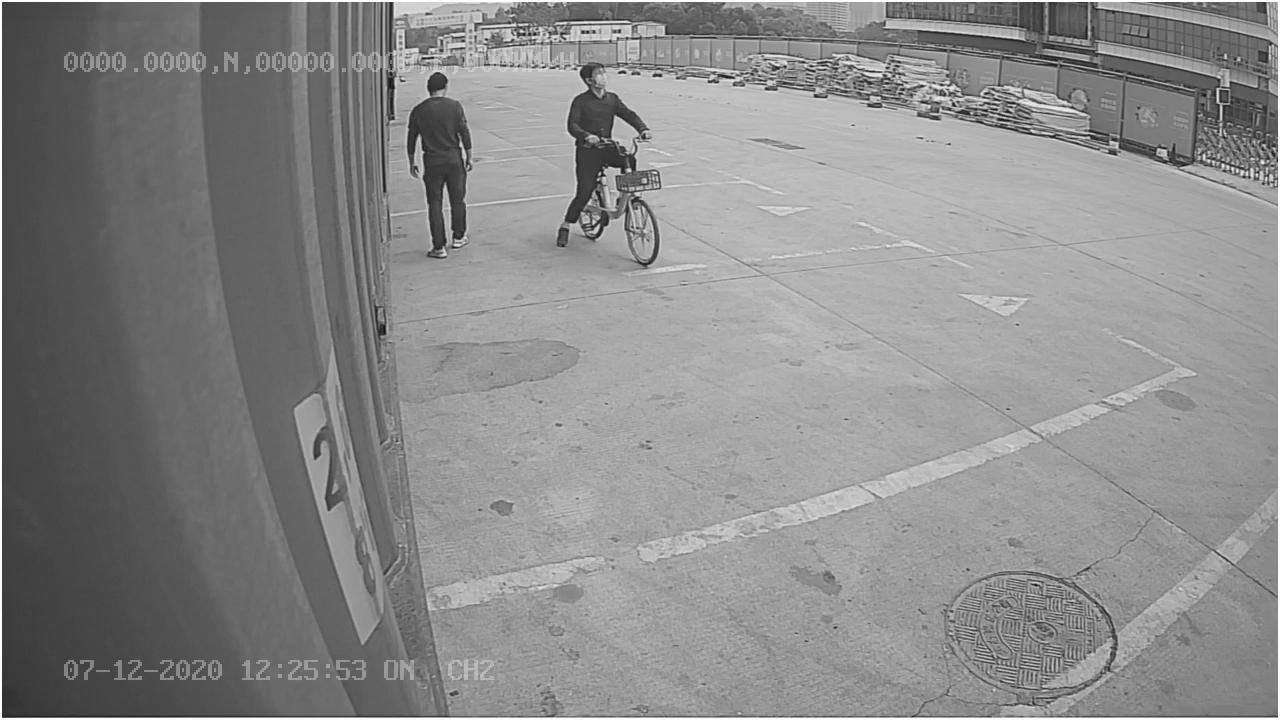person: (401, 69, 477, 264)
